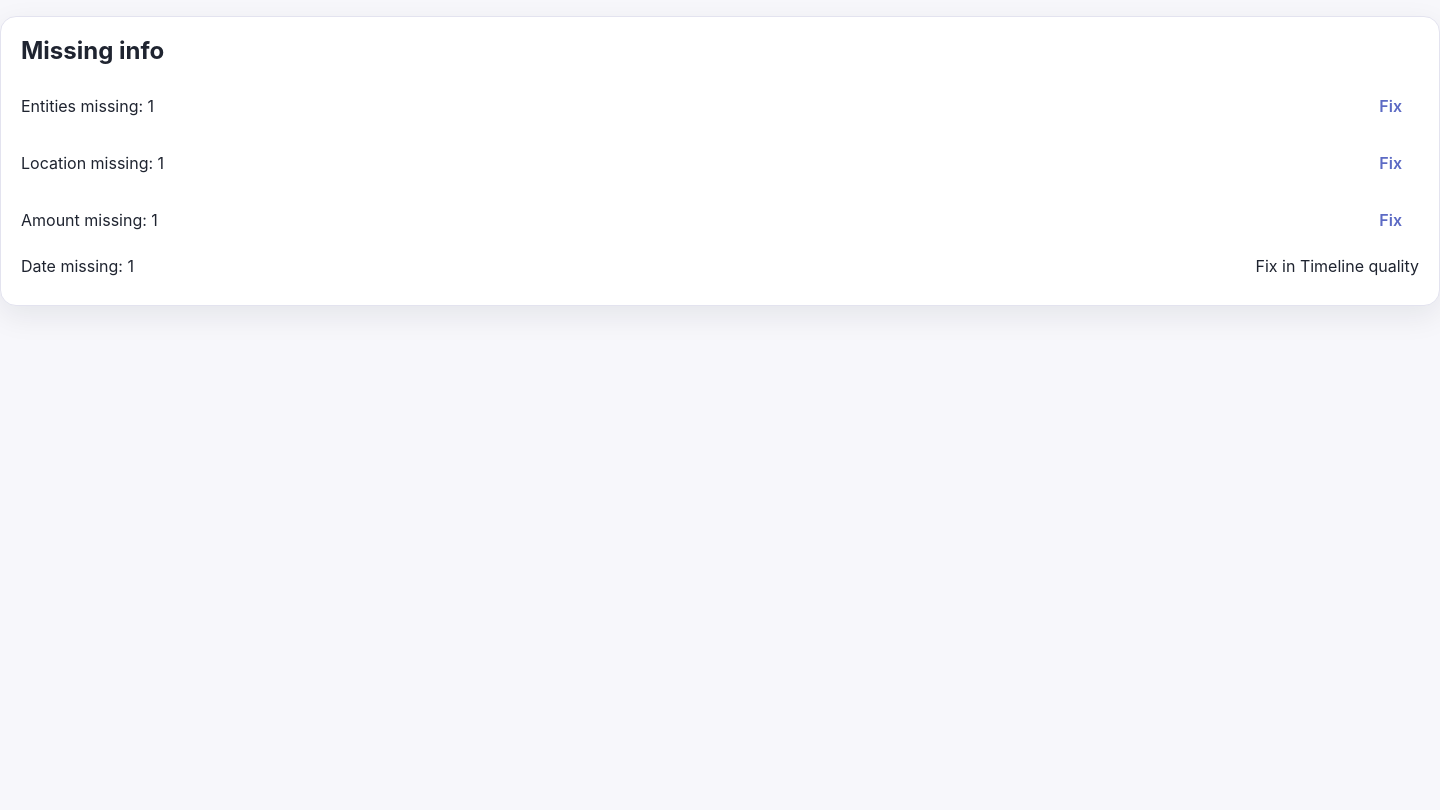
Test: MissingInfo › renders counts, opens fixer, saves annotation and updates UI
The image size is (1440, 810).
Check: the text "Entities missing: 1" is shown, box [21,94,154,119]
Click the button "Fix" in the row of "Entities missing" at (1391, 106), box [1362,83,1419,130]
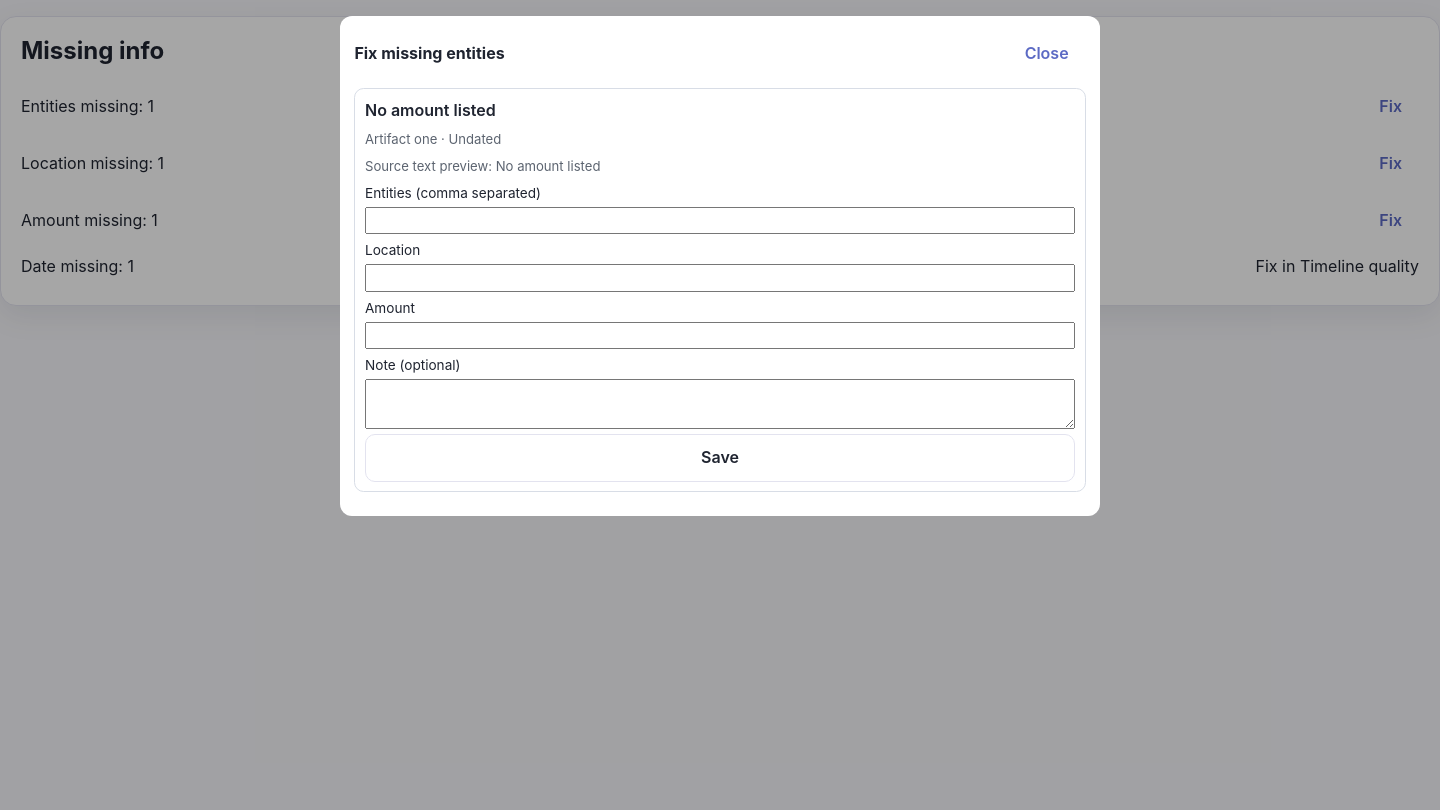
Check: the text "Fix missing entities" is shown, box [354,41,505,67]
Type "Alice" into the field labelled "Entities (comma separated)" at (720, 221), box [365,207,1075,234]
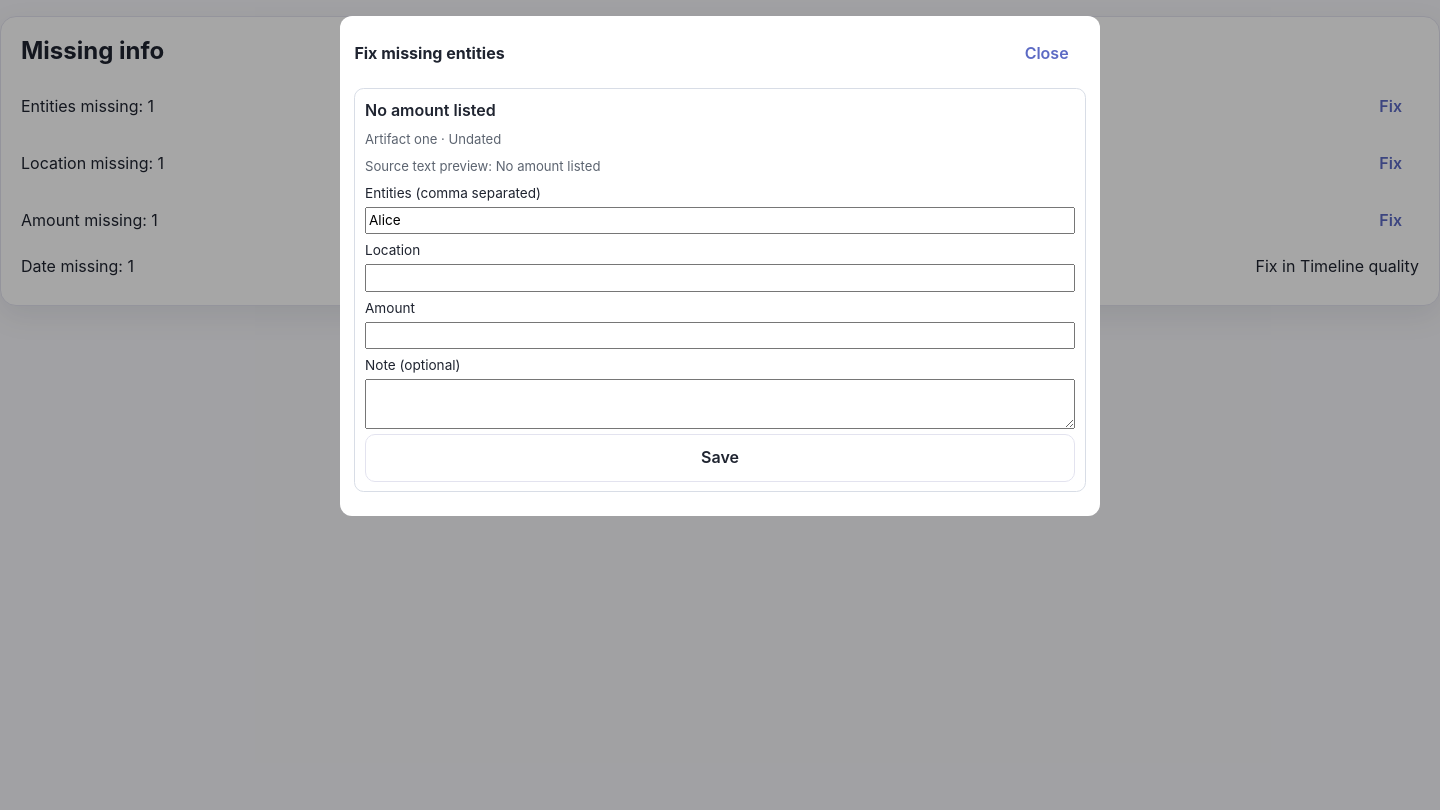
Click the button "Save" at (720, 458), box [365,434,1075,482]
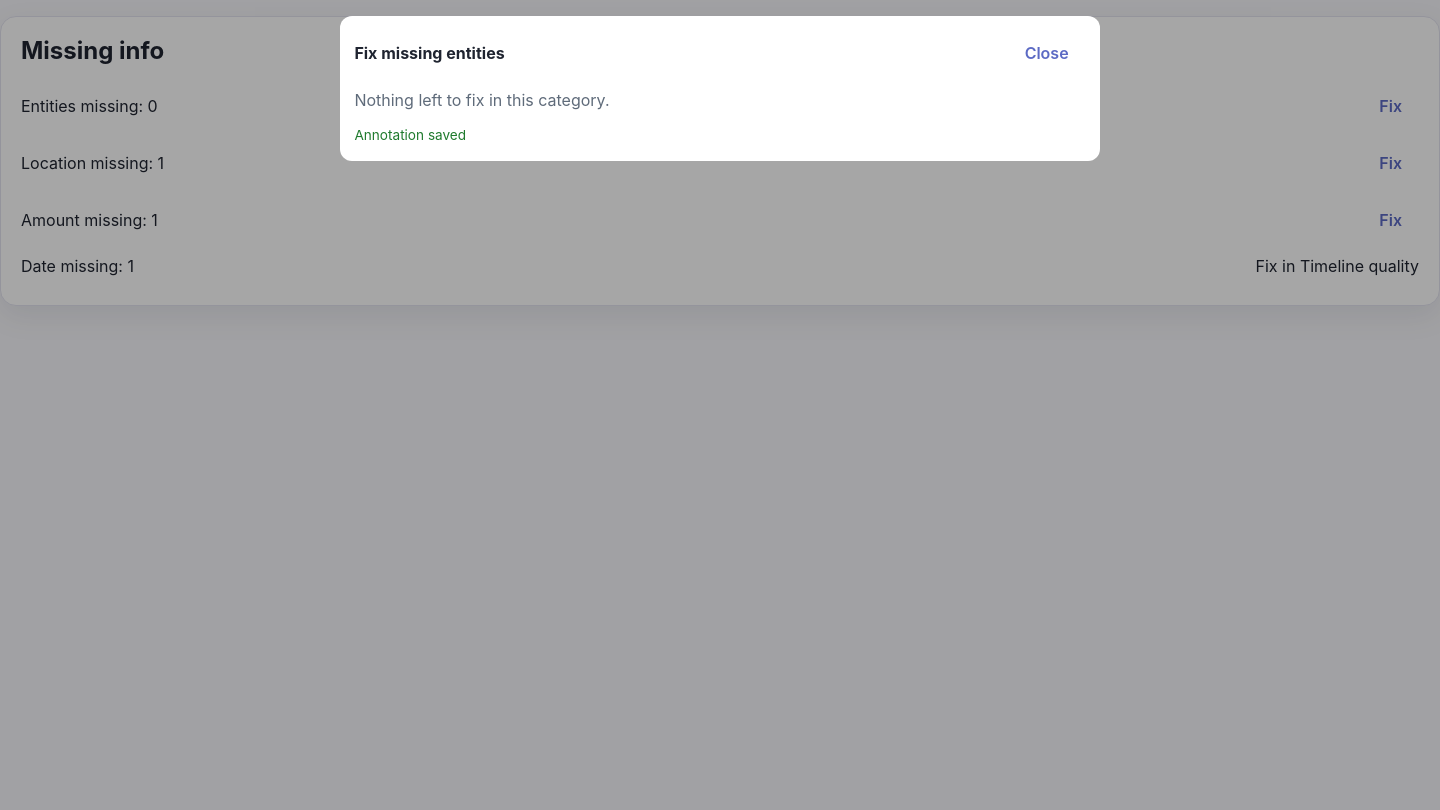
Check: the text "Annotation saved" is shown, box [354,127,466,143]
Check: the text "Entities missing: 0" is shown, box [21,94,158,119]
